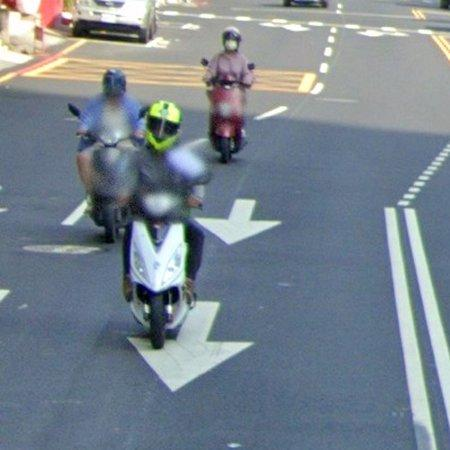motorcycles: (130, 192, 192, 350)
